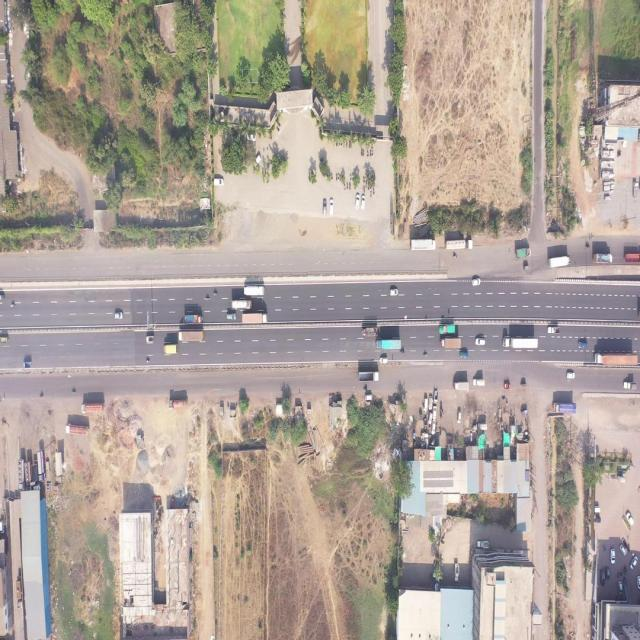3W: (520, 407, 529, 417), (22, 361, 32, 368), (504, 382, 511, 390), (520, 383, 527, 389), (523, 264, 529, 271)
Bus: (243, 286, 265, 296)
Cars: (625, 508, 634, 525), (246, 132, 257, 144), (630, 554, 638, 570), (254, 153, 262, 167), (609, 548, 616, 564), (475, 336, 486, 346), (600, 570, 606, 588), (471, 277, 481, 287), (213, 177, 224, 186), (619, 544, 627, 556), (322, 198, 327, 217), (329, 197, 334, 216), (578, 340, 588, 349), (114, 311, 123, 320), (566, 371, 575, 380), (459, 350, 468, 359), (355, 193, 360, 209), (361, 194, 366, 210), (618, 580, 623, 595), (389, 288, 398, 296), (227, 312, 236, 320), (457, 410, 462, 424), (433, 404, 437, 420), (428, 394, 432, 410), (423, 396, 427, 411), (365, 393, 372, 401), (428, 412, 432, 425), (380, 357, 388, 363), (637, 574, 640, 590)
LCV: (476, 539, 491, 550), (472, 377, 486, 387), (454, 561, 460, 584), (546, 326, 560, 334), (146, 336, 154, 342)
M2W: (362, 174, 366, 183), (71, 389, 77, 395), (145, 358, 151, 364), (339, 172, 342, 182), (213, 291, 218, 297), (370, 190, 373, 199), (10, 303, 15, 308), (206, 296, 211, 301), (40, 393, 44, 399), (340, 140, 343, 147), (350, 172, 352, 182), (346, 180, 348, 190), (585, 245, 590, 249), (362, 148, 364, 157), (331, 172, 333, 181), (264, 168, 266, 177), (336, 172, 338, 180), (372, 149, 374, 157), (366, 150, 368, 158), (453, 254, 457, 258), (401, 350, 404, 355), (424, 353, 427, 358), (346, 141, 348, 148), (344, 183, 346, 190), (349, 184, 351, 191)
MAV: (591, 348, 637, 363), (503, 335, 539, 348), (445, 238, 474, 250), (376, 338, 402, 349), (440, 337, 461, 349)
Truck: (65, 422, 90, 438), (551, 401, 577, 414), (410, 238, 436, 251), (80, 401, 105, 414), (178, 330, 204, 342), (241, 312, 267, 323), (548, 255, 570, 267), (592, 252, 613, 264), (230, 299, 252, 310), (168, 398, 188, 410), (358, 370, 379, 381), (182, 314, 204, 324), (624, 250, 640, 263), (439, 325, 456, 336), (452, 381, 470, 391), (361, 327, 379, 337), (515, 248, 532, 258), (164, 344, 178, 353)
